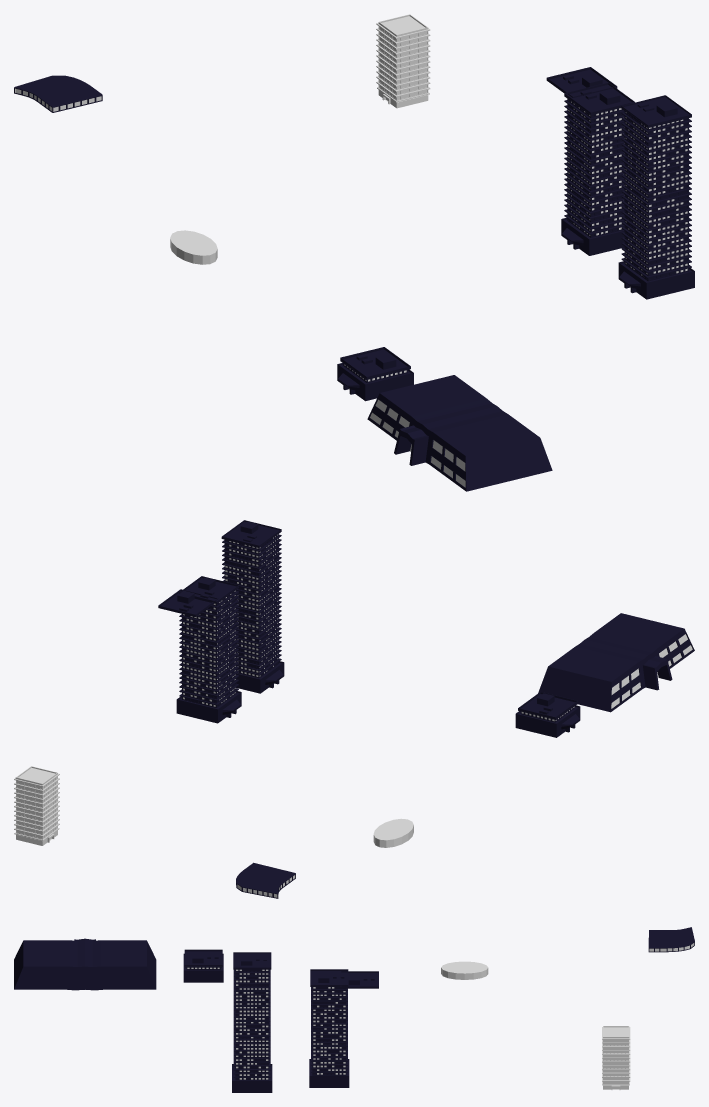
The picture shows the model from 3 angles, top to bottom: view 1: azimuth 30°, elevation 25°; view 2: azimuth 150°, elevation 25°; view 3: azimuth 270°, elevation 25°; orthographic projection. The views are drawn at different scales.
Parts seen in each view (by area): view 1: Plane.002, Building2Mid, Plane.001, Building1, KHotelOriginal, Plane.002_cell.001, Plane.001_cell.015, Plane.001_cell.017, Building2RoofOrigin, Building2BaseOrigin, Circle, Plane.002_cell (+9 smaller); view 2: Plane.002, Plane.001, Building2Mid, Building1, KHotelOriginal, Plane.002_cell, Plane.002_cell.006, Building2BaseOrigin, Plane.002_cell.004, Building2RoofOrigin, Circle, Building2RoofOrigin.001 (+4 smaller); view 3: Plane.002, Plane.001, Building2Mid, Building1, KHotelOriginal, Circle, Plane.002_cell.003, Building2RoofOrigin, Plane.002_cell.002, Building2RoofOrigin.001, Building2BaseOrigin, Building2BaseOrigin.001 (+7 smaller).
Part boxes in pixels (bbox=[...]): Plane.002: bbox=[367, 375, 552, 491]; Building2Mid: bbox=[564, 89, 624, 237]; Plane.001: bbox=[621, 97, 691, 280]; Building1: bbox=[376, 14, 430, 108]; KHotelOriginal: bbox=[14, 75, 102, 112]; Plane.002_cell.001: bbox=[448, 446, 507, 491]; Plane.001_cell.015: bbox=[640, 182, 691, 231]; Plane.001_cell.017: bbox=[622, 205, 676, 264]; Building2RoofOrigin: bbox=[340, 347, 410, 379]; Building2BaseOrigin: bbox=[337, 363, 413, 401]; Circle: bbox=[170, 230, 217, 264]; Plane.002_cell: bbox=[392, 392, 443, 453]; Plane.002: bbox=[538, 613, 694, 712]; Plane.001: bbox=[222, 521, 281, 678]; Building2Mid: bbox=[179, 581, 238, 707]; Building1: bbox=[14, 766, 59, 845]; KHotelOriginal: bbox=[236, 862, 295, 898]; Plane.002_cell: bbox=[594, 650, 661, 696]; Plane.002_cell.006: bbox=[569, 667, 631, 710]; Building2BaseOrigin: bbox=[515, 705, 580, 737]; Plane.002_cell.004: bbox=[542, 639, 605, 689]; Building2RoofOrigin: bbox=[518, 692, 577, 719]; Circle: bbox=[373, 818, 413, 847]; Building2RoofOrigin.001: bbox=[158, 589, 218, 616]; Plane.002: bbox=[14, 938, 156, 990]; Plane.001: bbox=[233, 953, 270, 1080]; Building2Mid: bbox=[311, 971, 347, 1075]; Building1: bbox=[602, 1026, 630, 1089]; KHotelOriginal: bbox=[648, 927, 694, 952]; Circle: bbox=[441, 961, 488, 979]; Plane.002_cell.003: bbox=[36, 949, 95, 989]; Building2RoofOrigin: bbox=[184, 949, 222, 966]; Plane.002_cell.002: bbox=[14, 953, 64, 989]; Building2RoofOrigin.001: bbox=[340, 971, 378, 988]; Building2BaseOrigin: bbox=[183, 953, 223, 982]; Building2BaseOrigin.001: bbox=[232, 1064, 272, 1092].
Bounding box in the file's own units: 2506 × 1084 × 5212.
